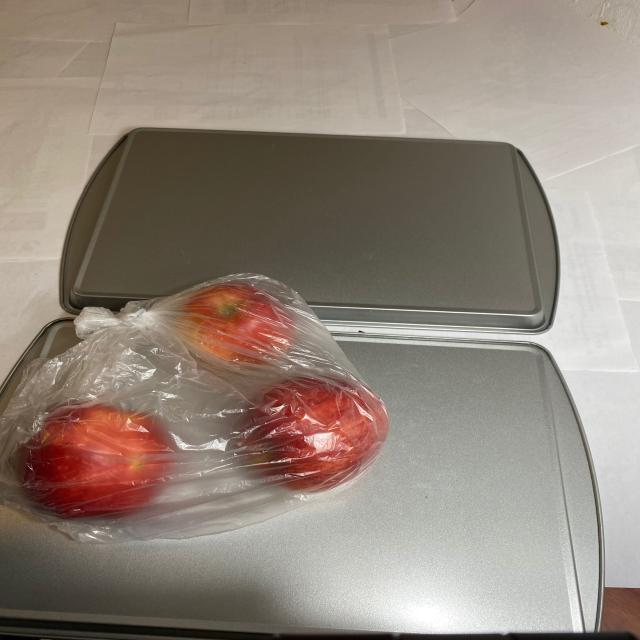apple: (13, 280, 393, 524)
